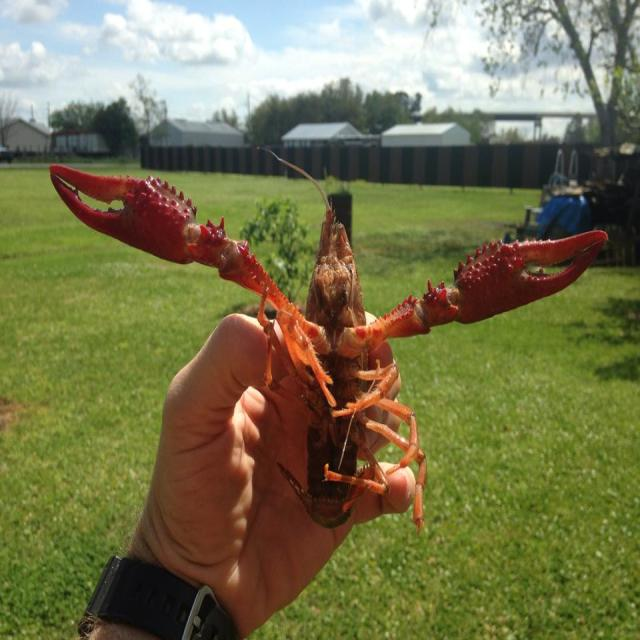Crawfish: (51, 167, 608, 529)
